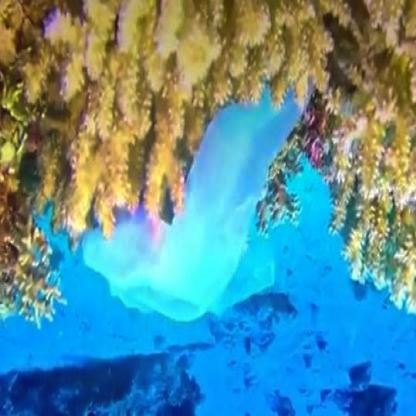plastic: (57, 124, 289, 323)
